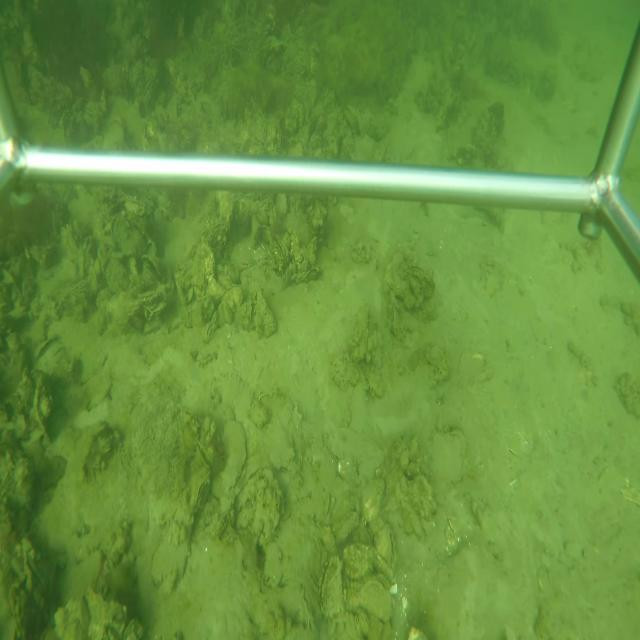Oyster-Closed: (208, 419, 250, 500), (151, 526, 193, 585), (349, 572, 394, 623), (431, 427, 469, 482), (255, 287, 276, 337), (222, 283, 244, 312), (192, 479, 208, 516), (203, 311, 219, 345), (360, 516, 373, 546)
Oyster-Indeterminate: (235, 465, 283, 543), (362, 477, 387, 521), (343, 543, 373, 578)
Oyster-Open: (318, 556, 348, 616), (373, 523, 398, 571), (33, 334, 60, 363), (140, 255, 164, 284), (195, 441, 213, 472)
